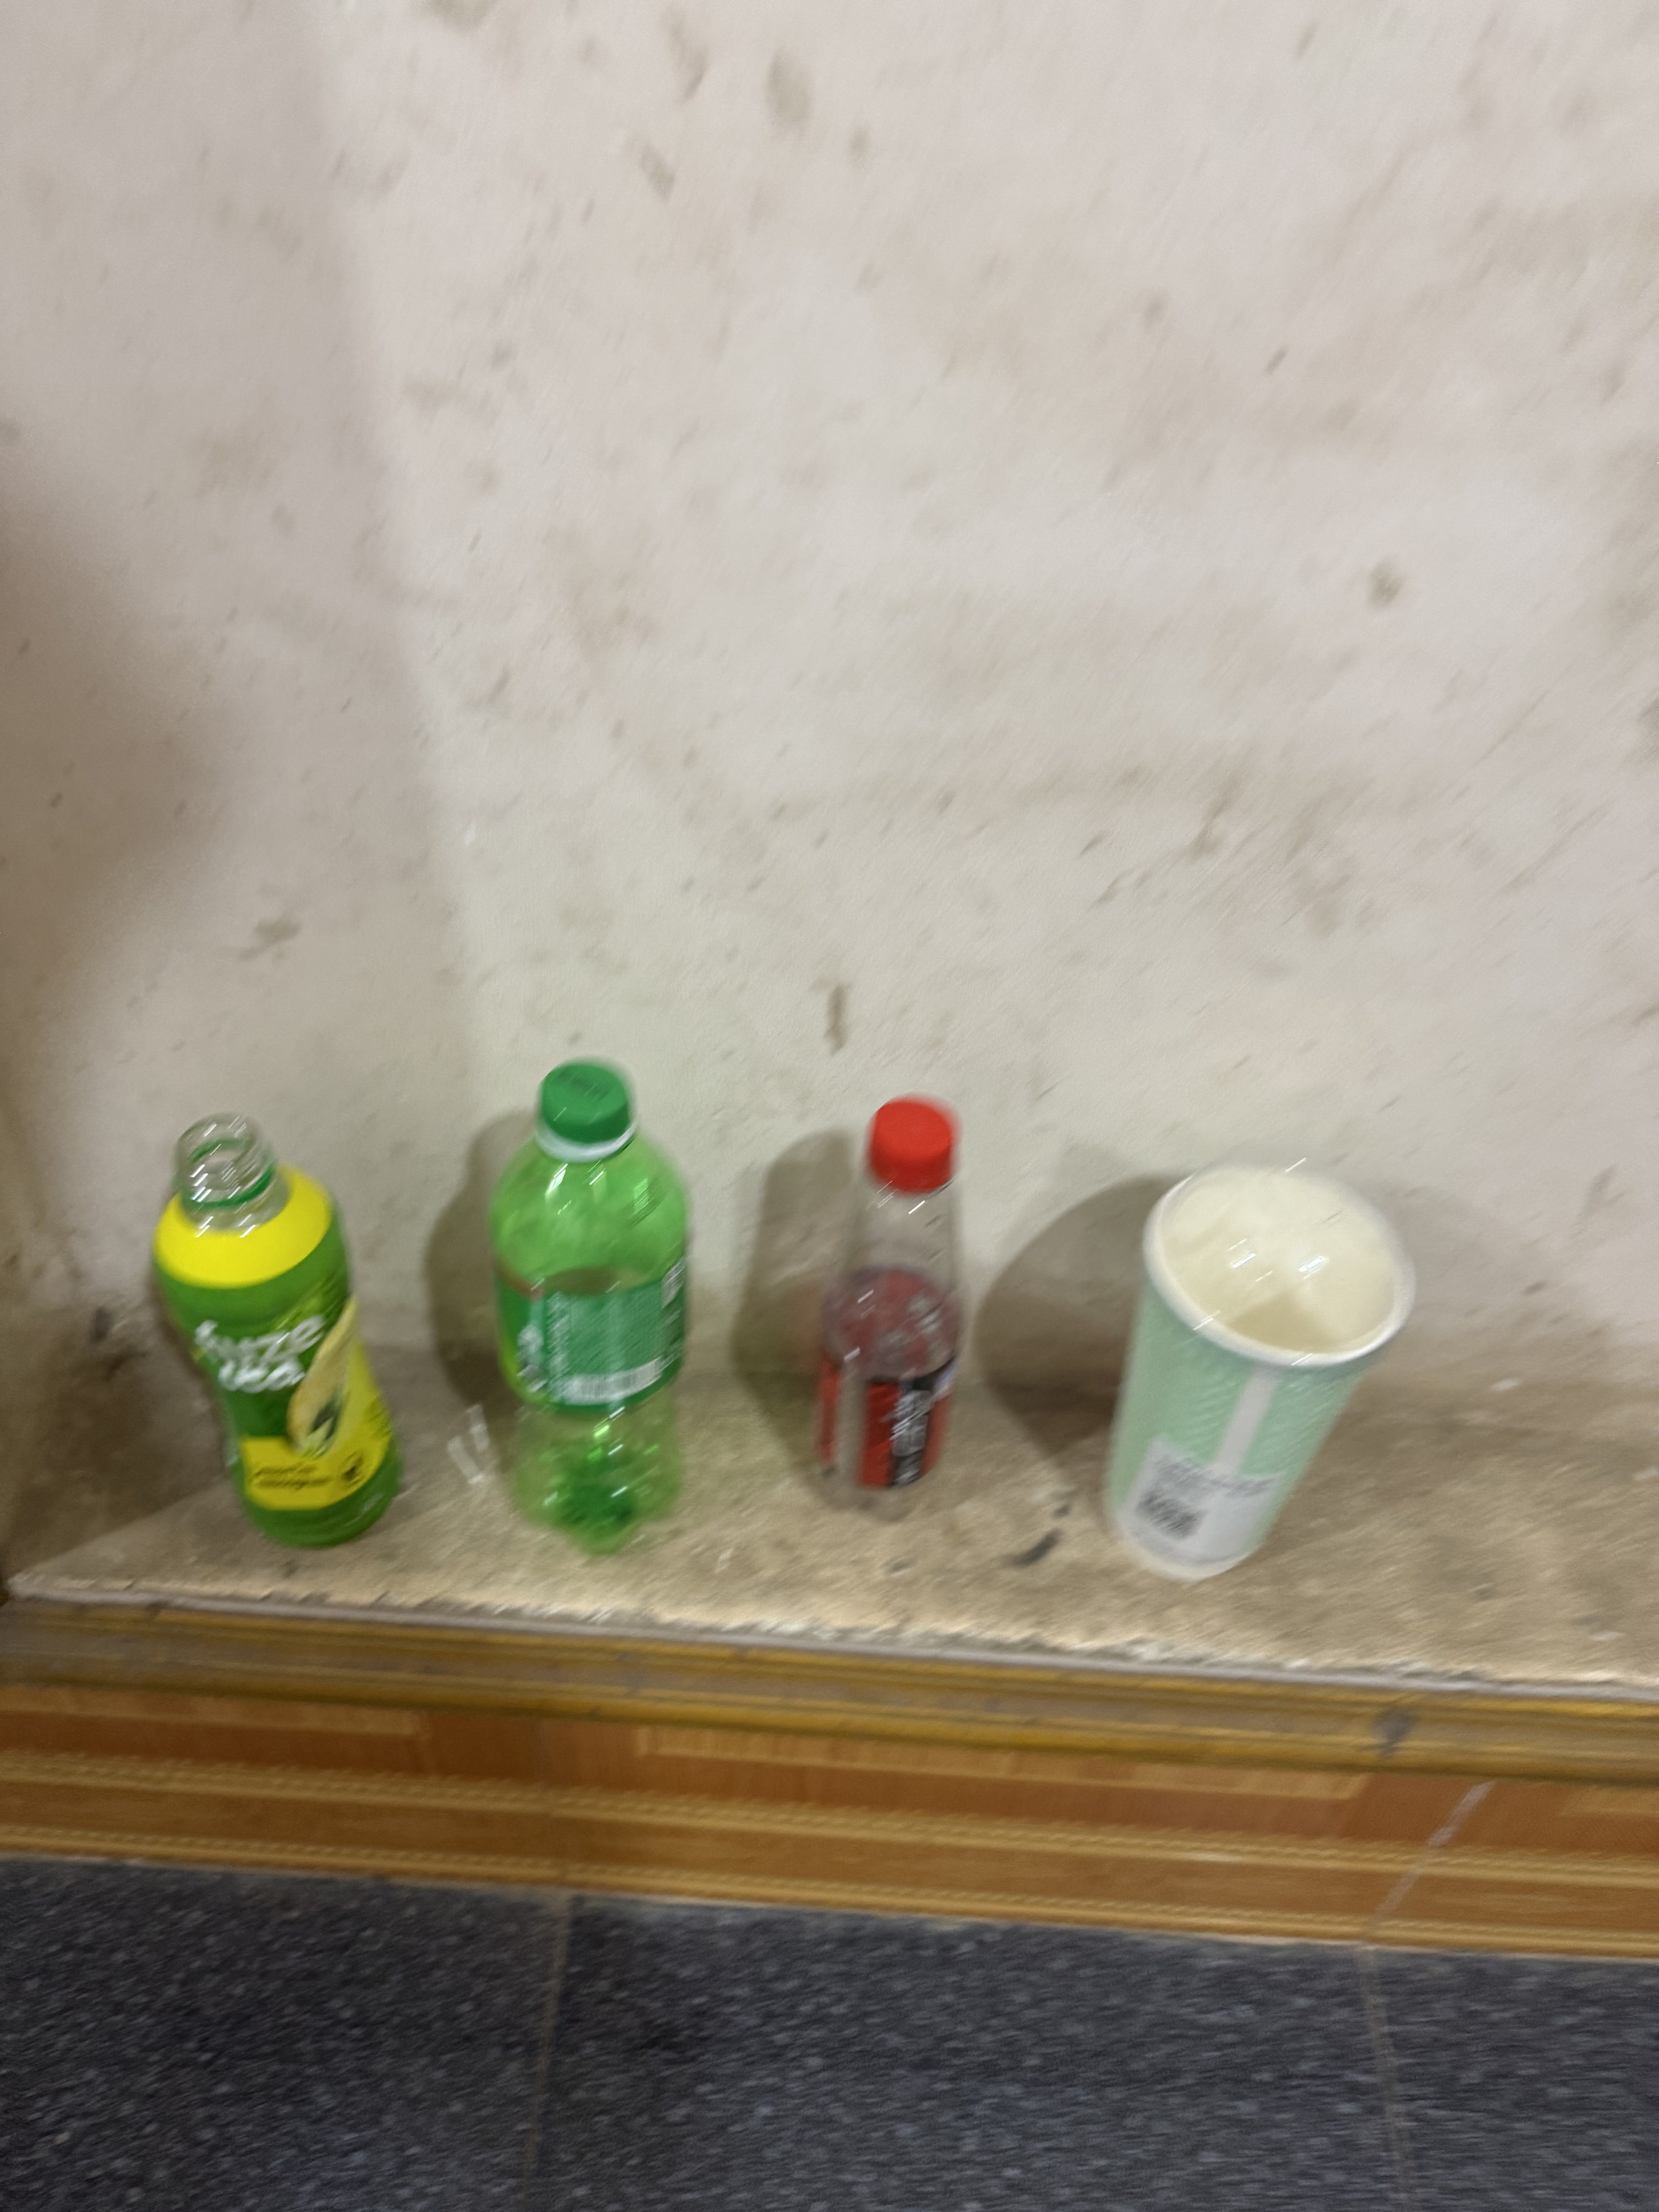2: (1073, 1116, 1438, 1635)
bottle: (448, 1036, 748, 1597), (115, 1092, 436, 1568), (786, 1069, 1011, 1543)
